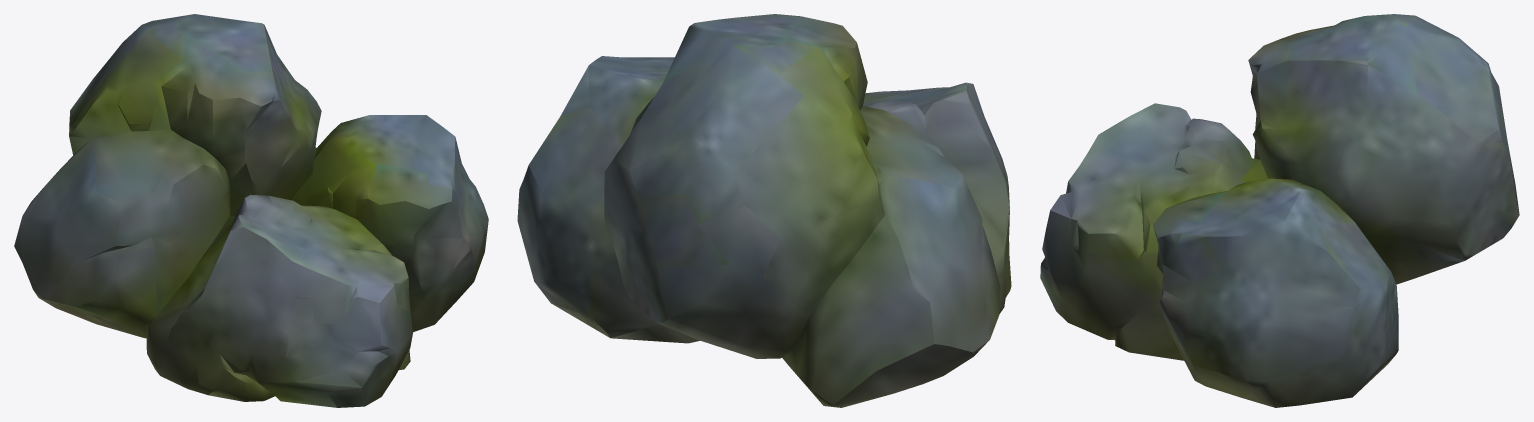
Rendered from rocas_salpicadura.glb.
The picture shows the model from 3 angles, left to right: view 1: azimuth 30°, elevation 25°; view 2: azimuth 150°, elevation 25°; view 3: azimuth 270°, elevation 25°; orthographic projection. The views are drawn at different scales.
Parts seen in each view (by area): view 1: rocas_salpicadura_malla; view 2: rocas_salpicadura_malla; view 3: rocas_salpicadura_malla.
Boxes of the visible parts, box(x1,y1,x2,y2) form: rocas_salpicadura_malla: box(14, 14, 488, 407); rocas_salpicadura_malla: box(517, 14, 1011, 407); rocas_salpicadura_malla: box(1040, 14, 1519, 407).
Size of the model in its own units: 0.146 by 0.0963 by 0.1479.
1 material, 1 textured.
